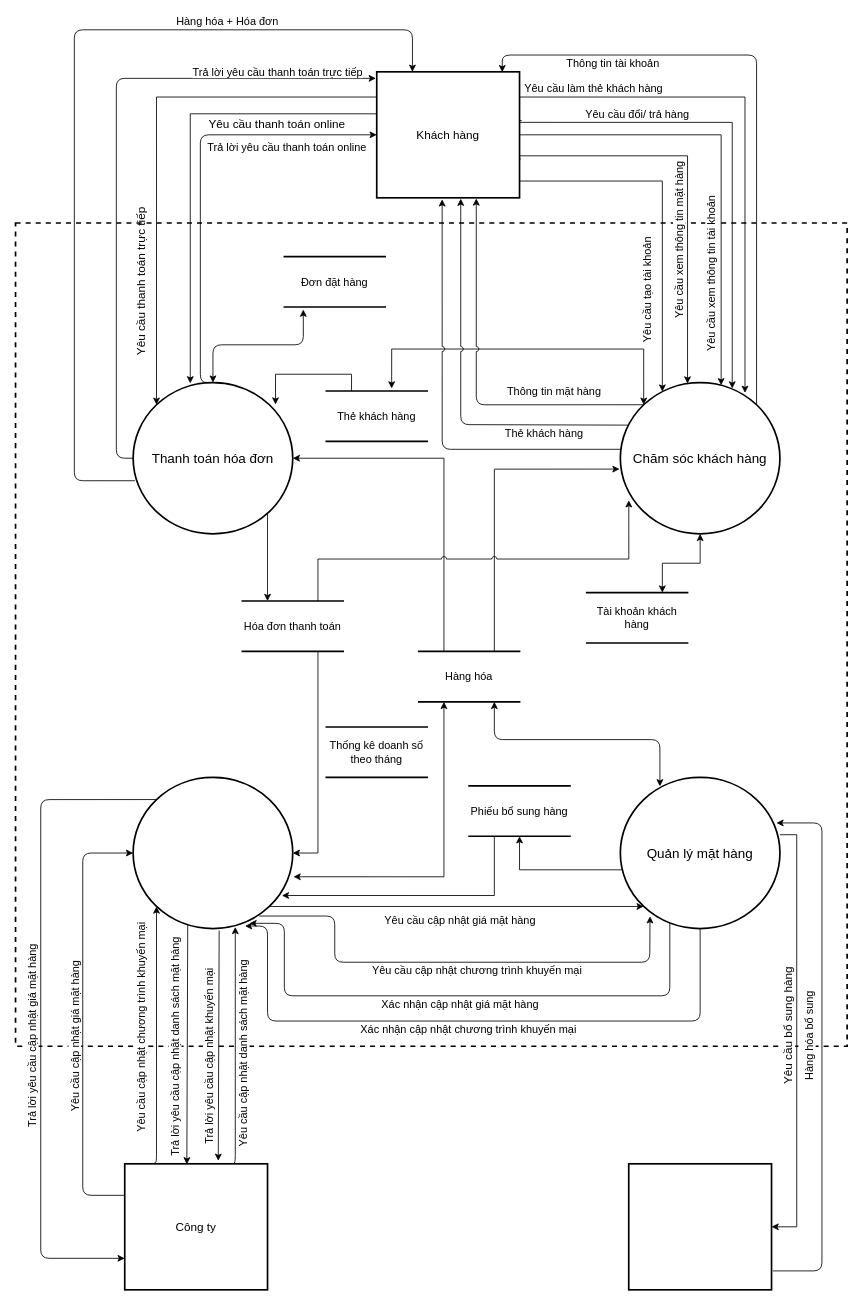
Some shapes in this 862 by 1305 pixel diagram are drawn without their labels. Each missing label, with the centre of its shape:
Kho: pixel 699 1226
Quản lý chung: pixel 212 852
